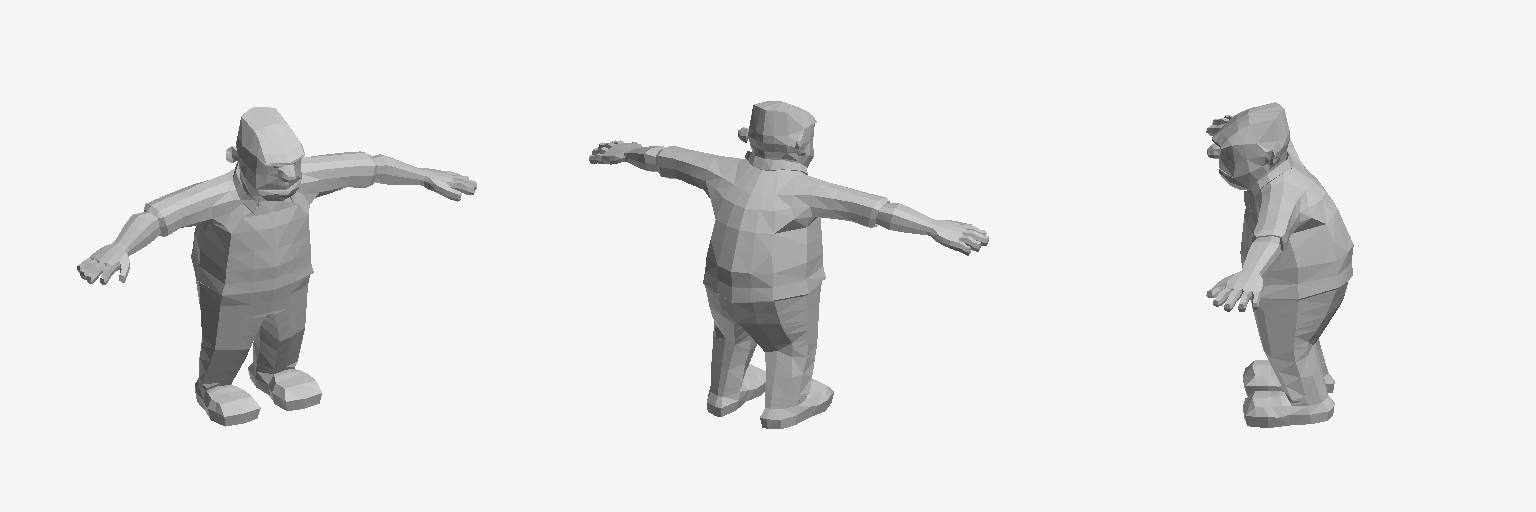
File: player.obj
3 views of the same model, side by side, from view 1: azimuth 30°, elevation 25°; view 2: azimuth 150°, elevation 25°; view 3: azimuth 270°, elevation 25° (orthographic).
Visible parts, largest first — view 1: initialShadingGroup player_mesh; view 2: initialShadingGroup player_mesh; view 3: initialShadingGroup player_mesh.
Part boxes in pixels (x1,y1,x2,y2): initialShadingGroup player_mesh: (77,107,476,426); initialShadingGroup player_mesh: (589,101,988,428); initialShadingGroup player_mesh: (1206,102,1353,427).
Size of the model in its own units: 2.56 by 1.85 by 0.8417.